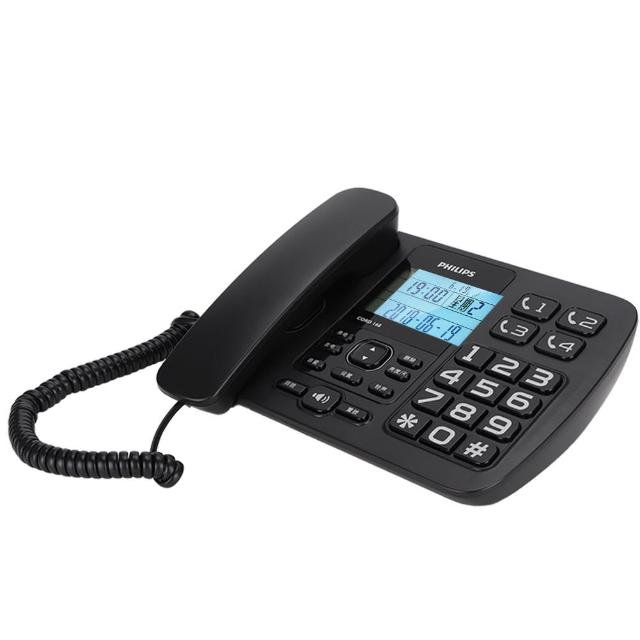Telephone-Set: (128, 128, 640, 534)
